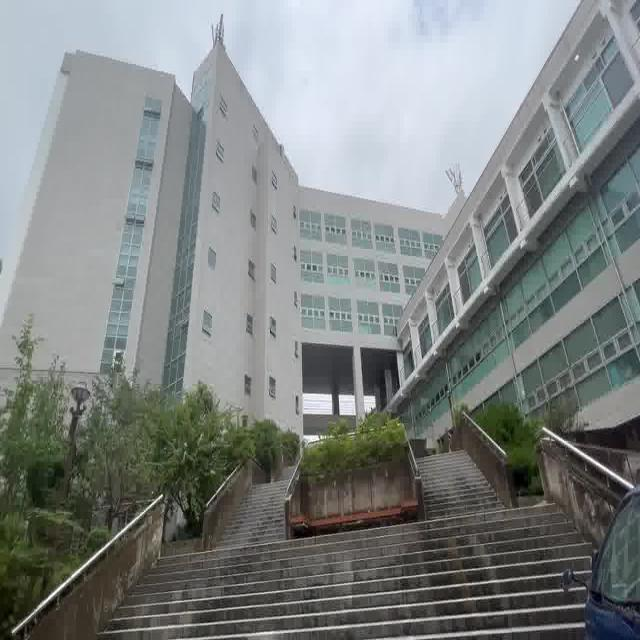building: (39, 70, 430, 402)
